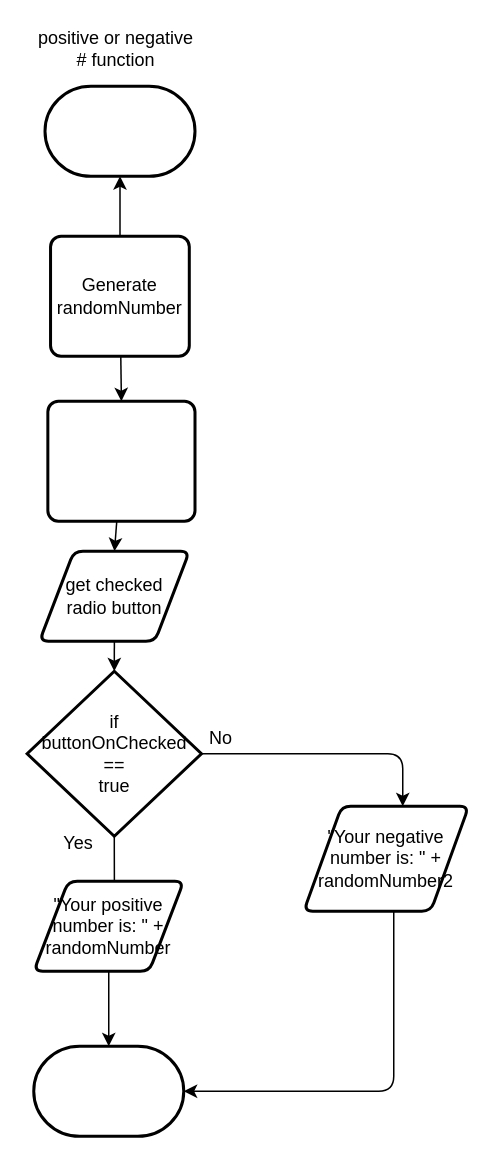
Some shapes in this 497 by 1163 pixel diagram are drawn without their labels. Here are the shapes that lost their labels. From the top down, the box of each, then its label:
(43, 84, 196, 177): Start
(46, 399, 196, 522): Generate randomNumber2
(32, 1044, 184, 1137): Stop
